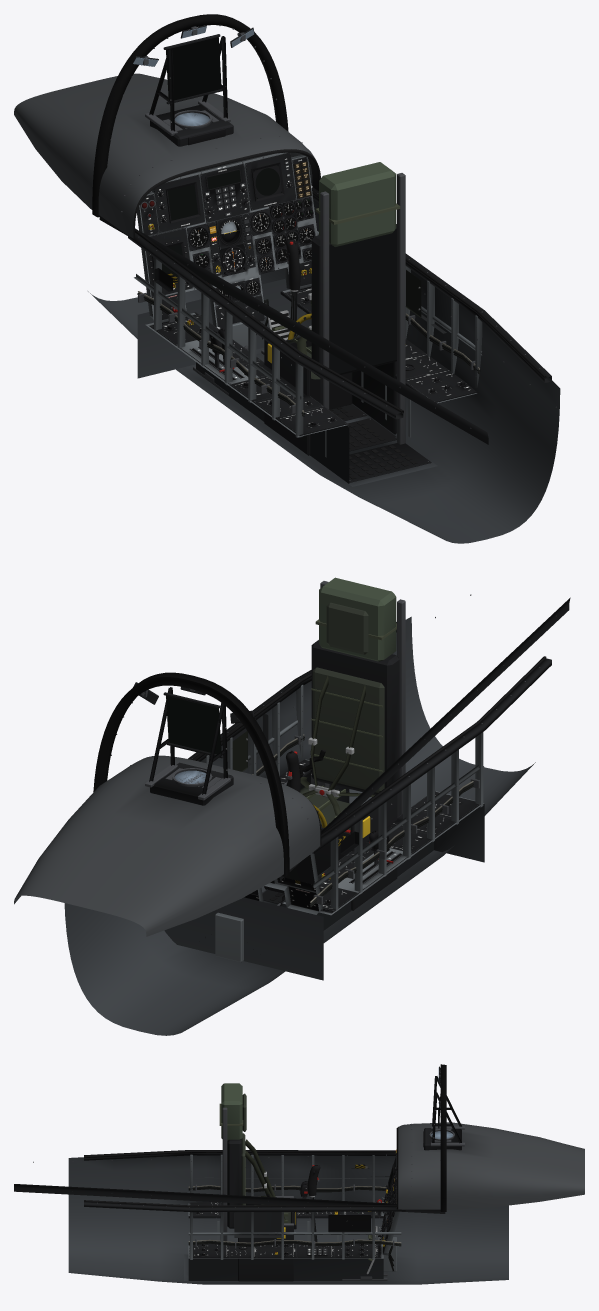
3 renders of one model, top to bottom at view 1: azimuth 30°, elevation 25°; view 2: azimuth 150°, elevation 25°; view 3: azimuth 270°, elevation 25°, orthographic. The views are drawn at different scales.
Visible parts, largest first — view 1: Static_paint_dark, Static_black, Static_atlas, Static_cover, Static_paint, Static_metal_dark, Static_chute, Canopy_attached__rubber, Static_rubber, Static_knob, Canopy_attached__black, Screen_HUD__screen (+3 smaller); view 2: Static_paint_dark, Static_cover, Static_black, Static_cushion, Static_paint, Canopy_attached__rubber, Static_atlas, Static_chute, Static_metal_dark, Canopy_attached__black, Screen_HUD__screen, Static_hud_glass (+3 smaller); view 3: Static_paint_dark, Static_cover, Static_black, Static_atlas, Static_paint, Canopy_attached__black, Static_rubber, Static_metal_dark, Static_wire, Static_chute, Canopy_attached__rubber, Static_knob (+3 smaller).
Boxes of the visible parts, x1=… form: Static_paint_dark: x1=88, y1=199, x2=560, y2=543; Static_black: x1=128, y1=34, x2=551, y2=482; Static_atlas: x1=139, y1=152, x2=476, y2=436; Static_cover: x1=14, y1=73, x2=446, y2=333; Static_paint: x1=134, y1=154, x2=482, y2=457; Static_metal_dark: x1=121, y1=100, x2=540, y2=481; Static_chute: x1=319, y1=162, x2=396, y2=246; Canopy_attached__rubber: x1=92, y1=14, x2=288, y2=217; Static_rubber: x1=133, y1=149, x2=546, y2=479; Static_knob: x1=149, y1=128, x2=470, y2=426; Canopy_attached__black: x1=99, y1=25, x2=488, y2=444; Screen_HUD__screen: x1=166, y1=37, x2=221, y2=100; Static_paint_dark: x1=64, y1=616, x2=535, y2=1035; Static_cover: x1=14, y1=714, x2=320, y2=936; Static_black: x1=149, y1=622, x2=551, y2=911; Static_cushion: x1=232, y1=602, x2=384, y2=829; Static_paint: x1=201, y1=684, x2=483, y2=962; Canopy_attached__rubber: x1=93, y1=672, x2=289, y2=876; Static_atlas: x1=244, y1=759, x2=484, y2=915; Static_chute: x1=319, y1=577, x2=396, y2=661; Static_metal_dark: x1=130, y1=581, x2=540, y2=910; Canopy_attached__black: x1=133, y1=597, x2=570, y2=880; Screen_HUD__screen: x1=166, y1=695, x2=221, y2=754; Static_hud_glass: x1=166, y1=696, x2=220, y2=753; Static_paint_dark: x1=68, y1=1155, x2=508, y2=1284; Static_cover: x1=234, y1=1122, x2=584, y2=1237; Static_black: x1=84, y1=1076, x2=461, y2=1281; Static_atlas: x1=188, y1=1155, x2=396, y2=1258; Static_paint: x1=188, y1=1154, x2=401, y2=1271; Canopy_attached__black: x1=14, y1=1066, x2=445, y2=1213; Static_rubber: x1=84, y1=1127, x2=398, y2=1209; Static_metal_dark: x1=97, y1=1083, x2=464, y2=1280; Static_wire: x1=188, y1=1186, x2=401, y2=1271; Static_chute: x1=221, y1=1083, x2=242, y2=1140; Canopy_attached__rubber: x1=440, y1=1064, x2=446, y2=1211; Static_knob: x1=196, y1=1131, x2=424, y2=1255.
Size of the model in its own units: 1.02 by 1.48 by 3.76.
26 materials, 1 textured.
